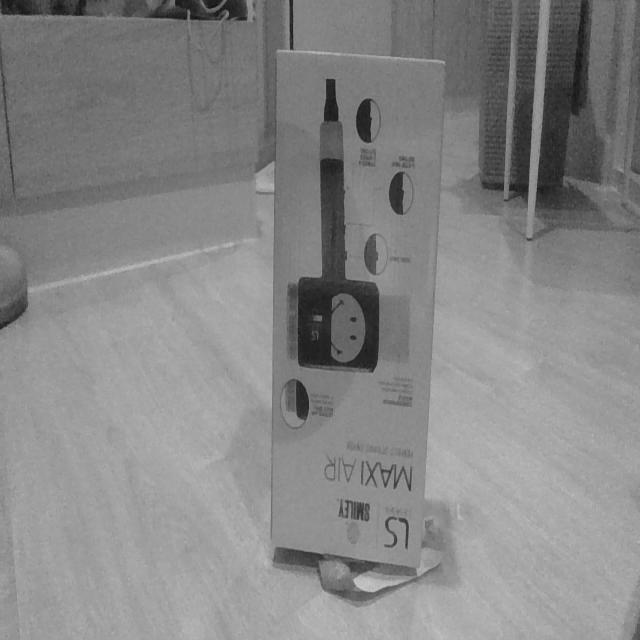Dryer: (268, 46, 447, 576)
